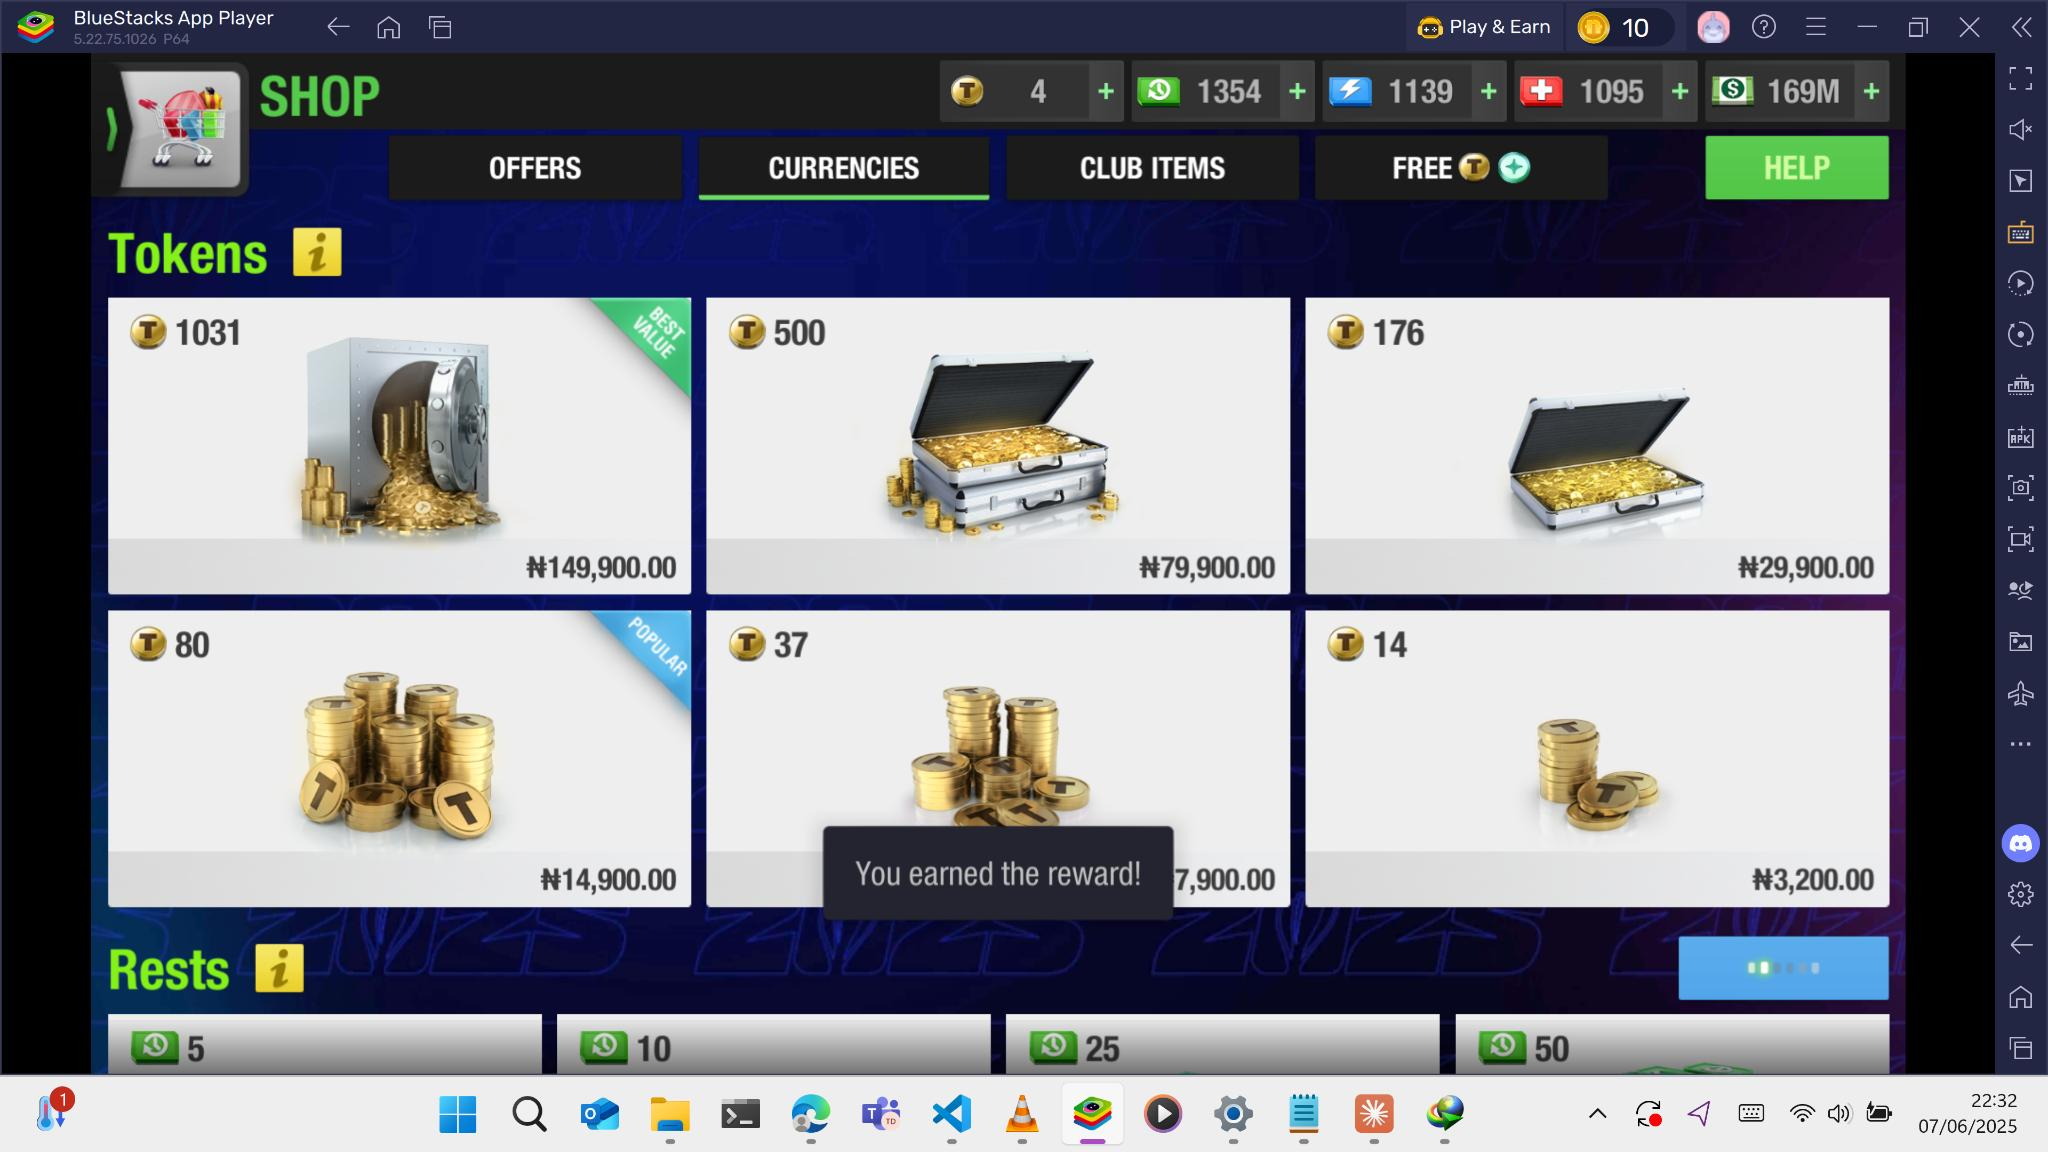cash_pack: (1710, 76, 1754, 108)
medic_pack: (1329, 76, 1373, 108), (1519, 76, 1564, 107)
rest_pack: (1137, 76, 1180, 107)
